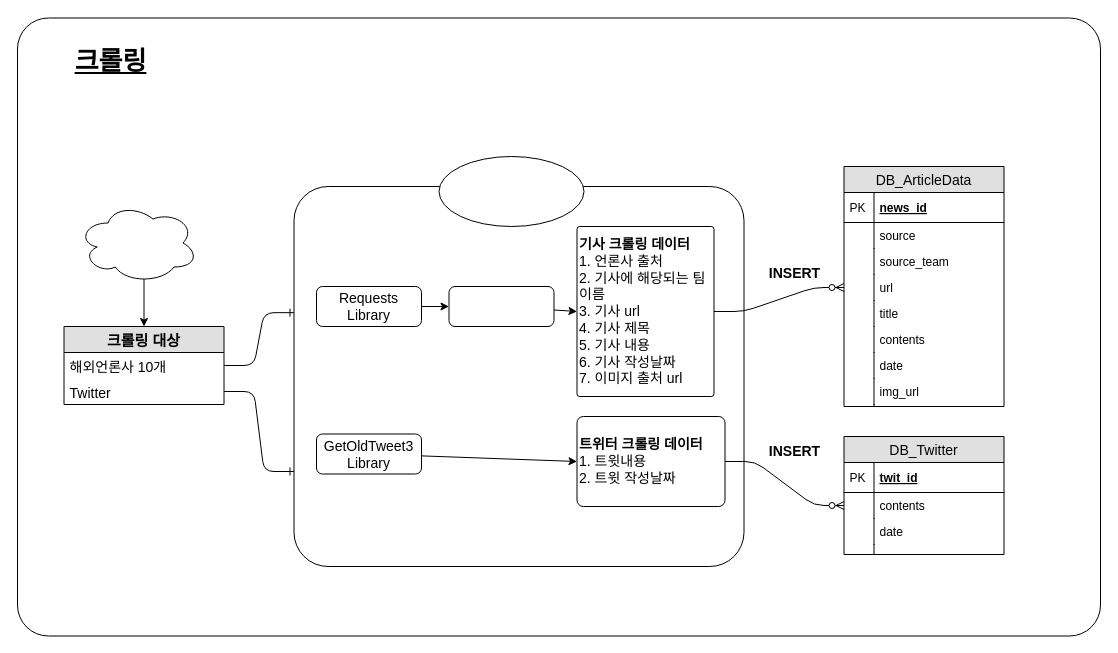
Image size: 1118x653. Some labels were removed from this diagram. Each missing label, with the centre of its shape:
Beautiful Soup4 Library: point (501, 306)
Python 크롤링: point (511, 191)
WEB: point (137, 242)
